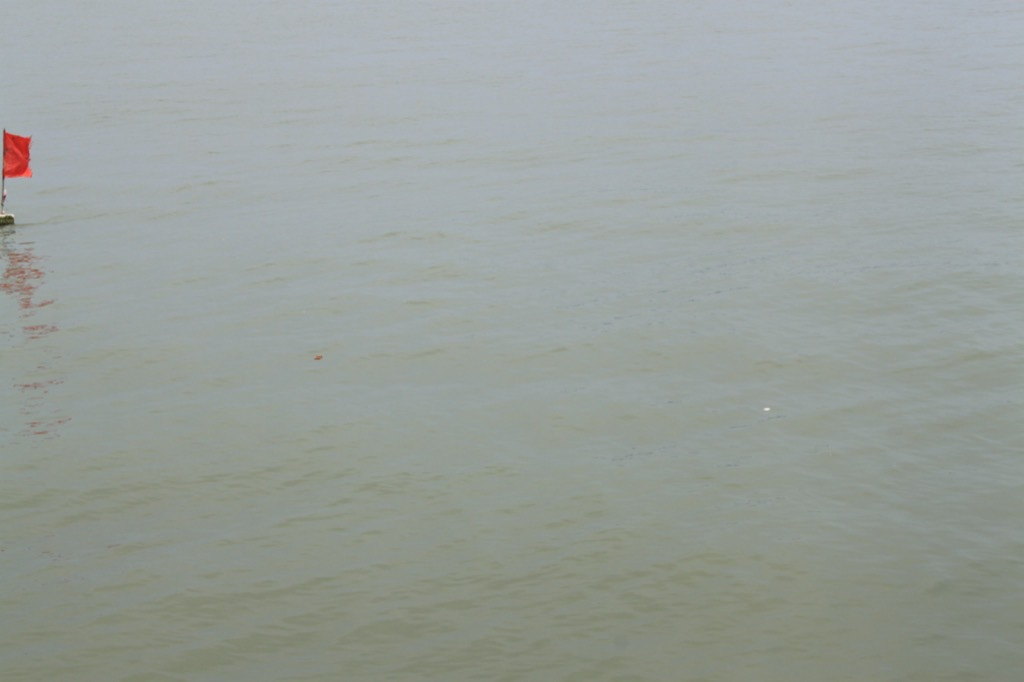plastic: (301, 341, 334, 372), (753, 397, 785, 425)
structure: (1, 117, 89, 457)
